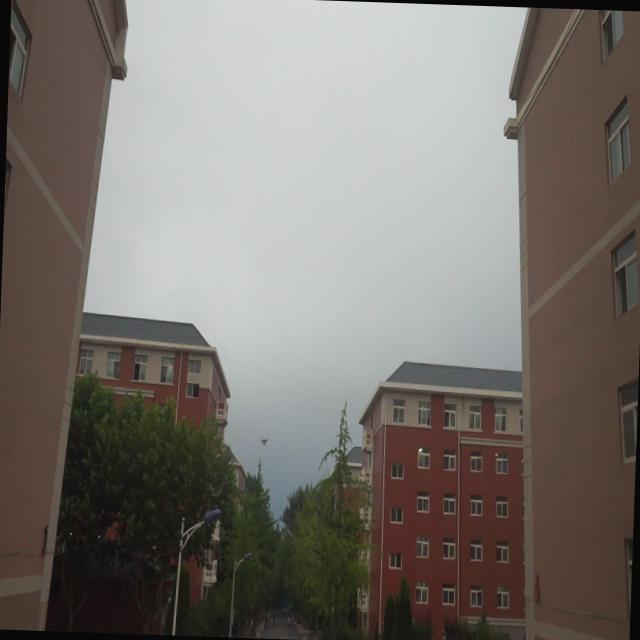drone: (260, 434, 270, 446)
